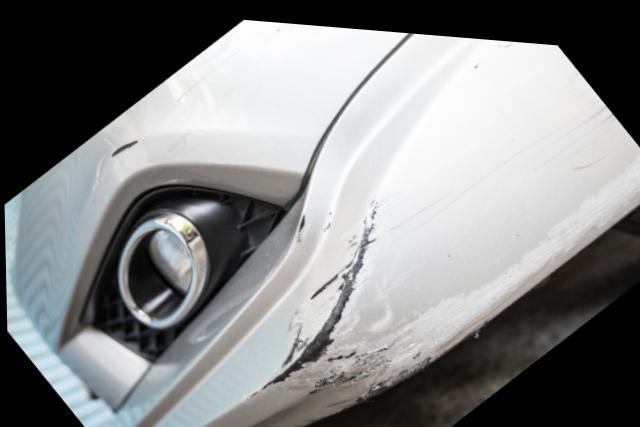scratch: (241, 136, 640, 399)
